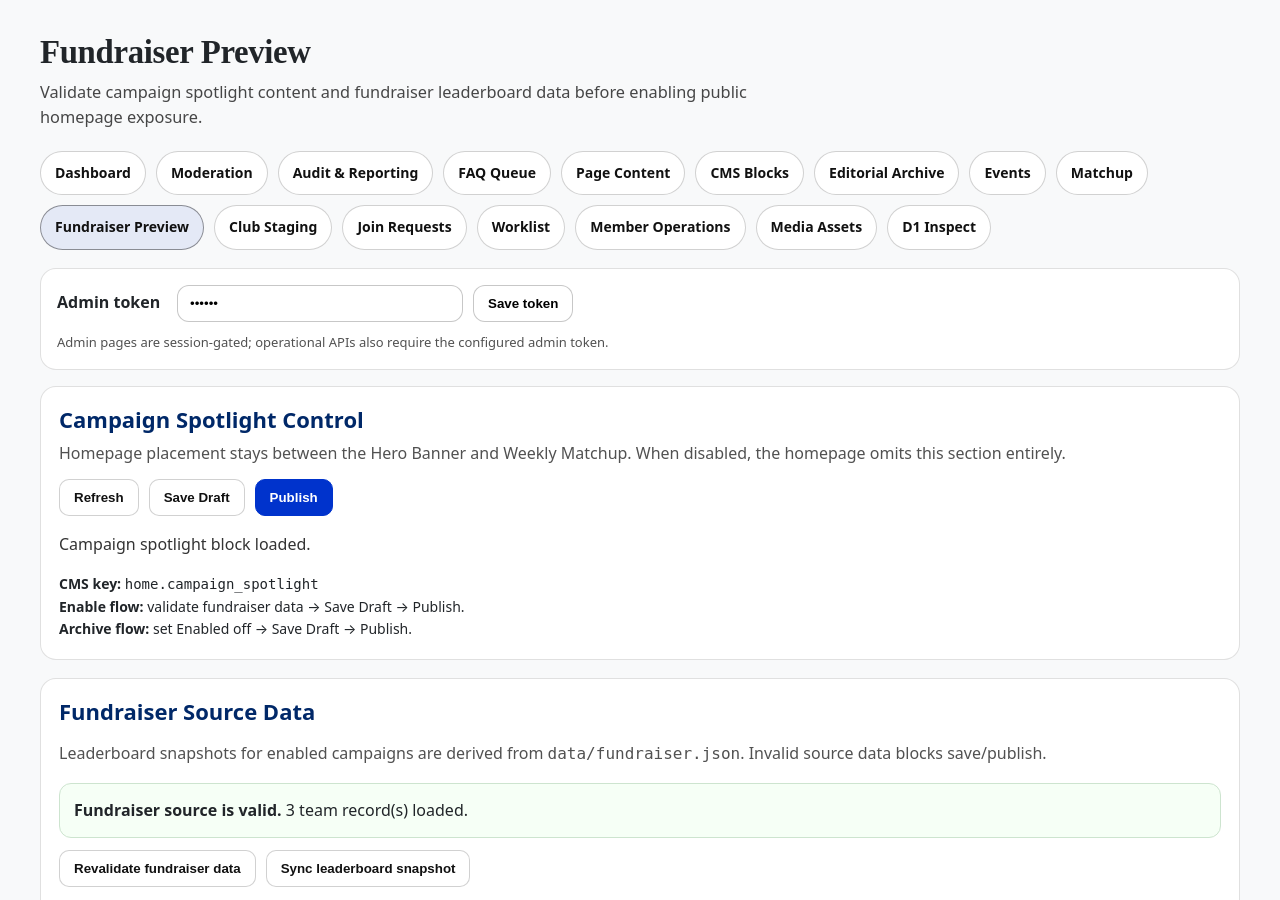
admin fundraiser preview page › clears campaign spotlight state when the admin token is removed
This screenshot has width=1280, height=900.
Check: the text "Campaign spotlight block loaded." is shown, box [59,533,311,555]
Step 1. Clear the password field labelled "Admin token" → x=320, y=303, box [177,285,463,322]
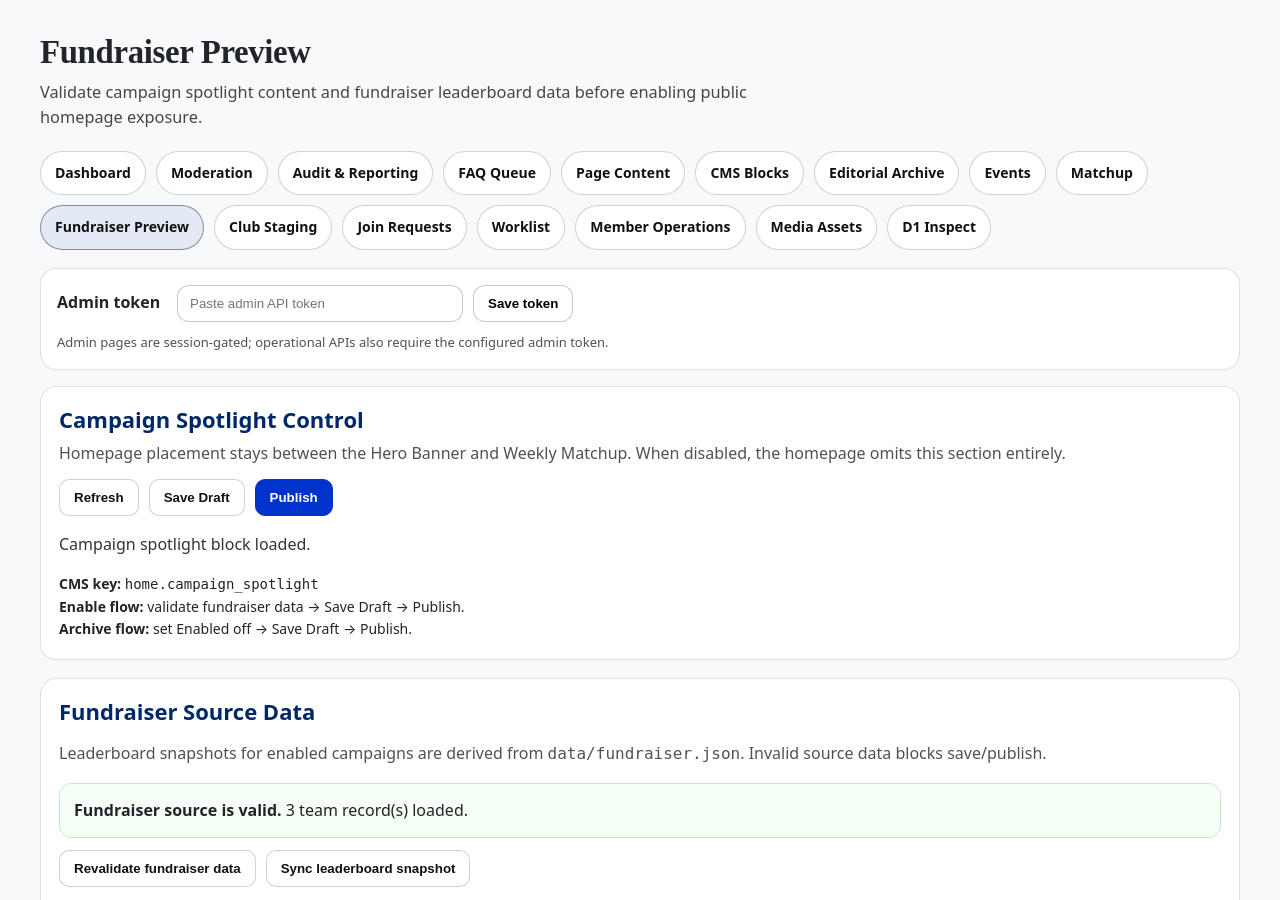
Step 2. Click the button "Save token" → x=523, y=303, box [473,285,573,322]
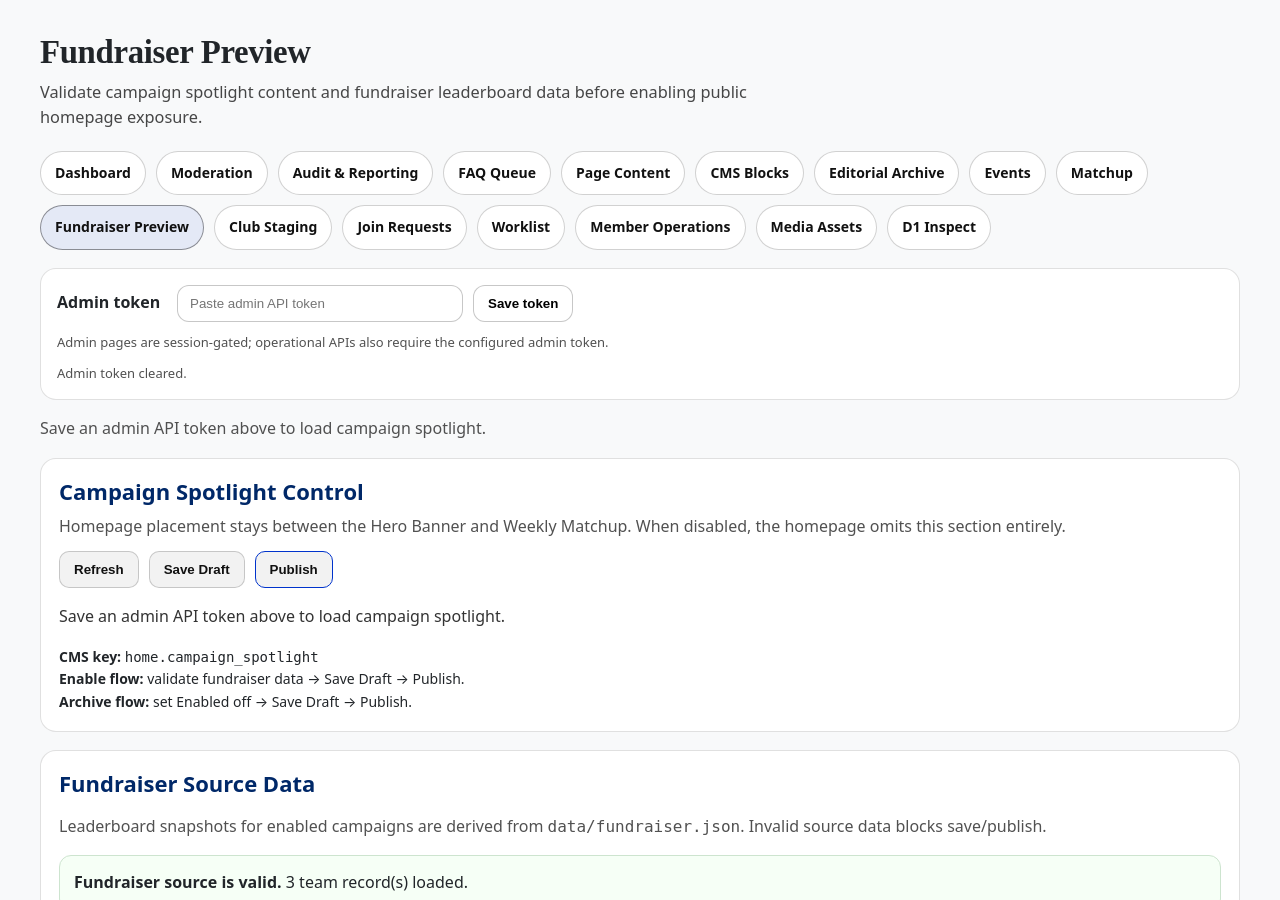
Check: the text "Campaign spotlight block loaded." is gone
Check: the 1st text "Save an admin API token above to load campaign spotlight." is shown, box [40,417,486,439]
